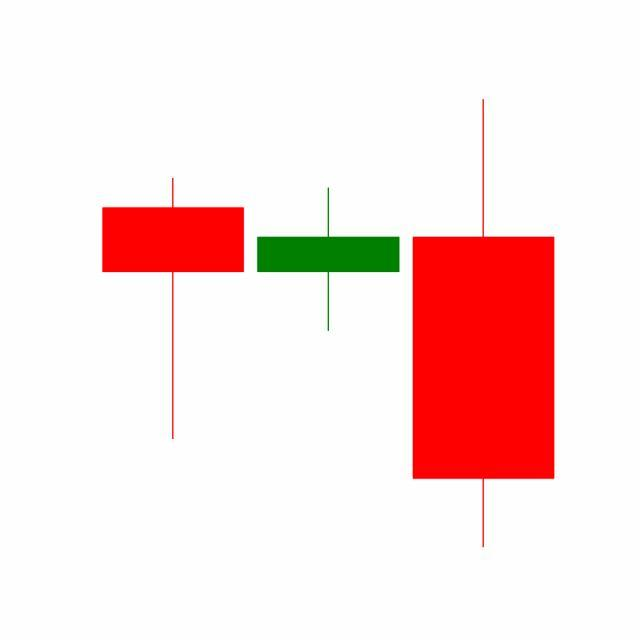Spinning Top: (250, 187, 407, 334)
